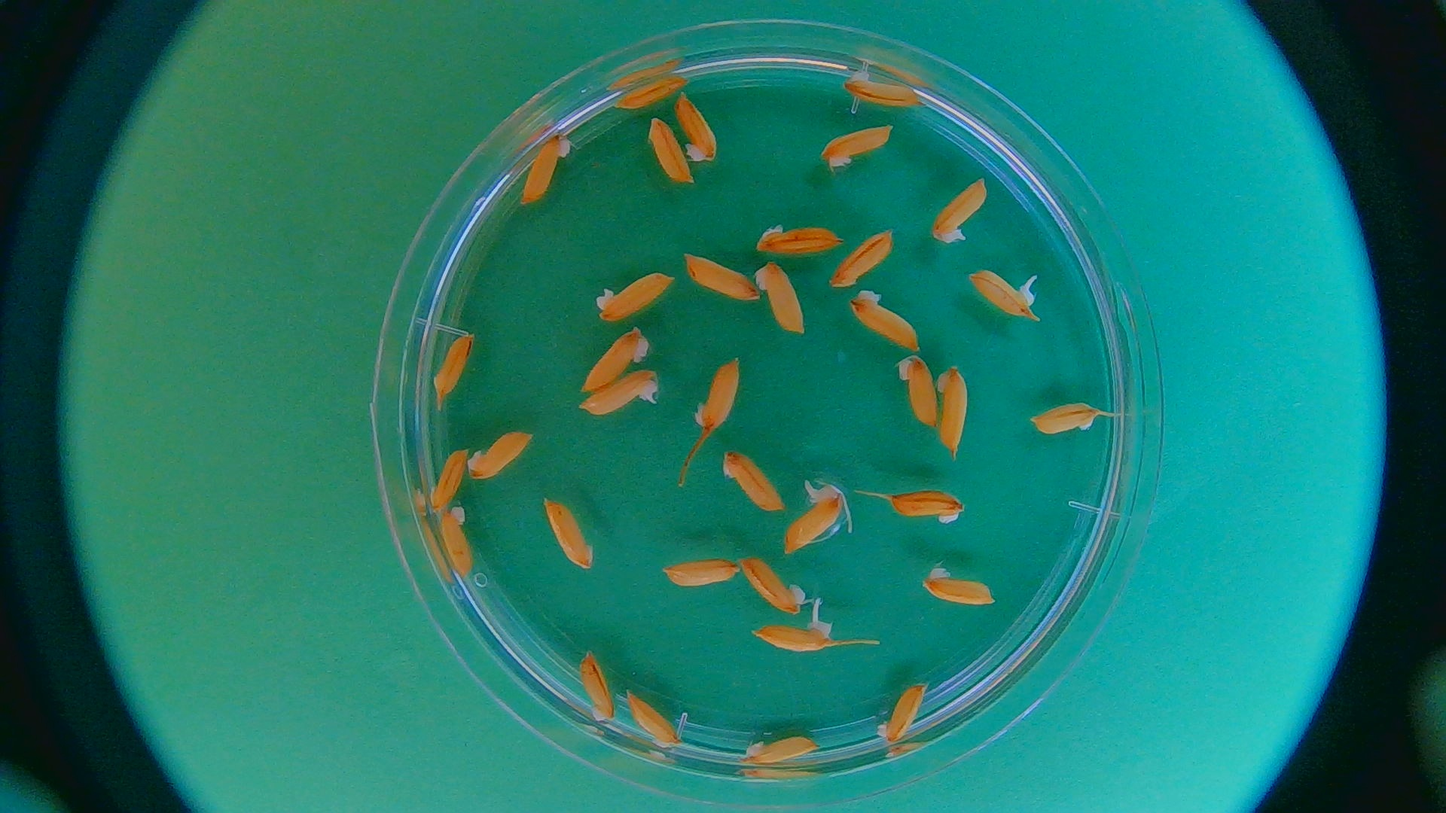no: (582, 326, 651, 394), (850, 291, 919, 352), (741, 555, 807, 618), (467, 428, 546, 480), (541, 500, 595, 574), (581, 370, 662, 419), (754, 261, 807, 334), (596, 273, 674, 321), (828, 231, 894, 287), (435, 510, 479, 591), (723, 451, 781, 512), (686, 256, 761, 301), (935, 178, 986, 244), (520, 136, 569, 202), (694, 361, 740, 431), (822, 123, 895, 167), (878, 679, 926, 744), (897, 353, 937, 428), (647, 117, 692, 183), (420, 438, 464, 505), (628, 690, 682, 744), (923, 567, 995, 607), (937, 366, 969, 452), (676, 93, 716, 160), (756, 224, 844, 254), (578, 651, 616, 720), (433, 334, 474, 397), (846, 72, 923, 105), (891, 490, 966, 523), (662, 557, 742, 587), (614, 78, 685, 110), (429, 452, 469, 508), (740, 736, 820, 764), (1029, 403, 1099, 434)
yes: (783, 481, 844, 553), (970, 263, 1039, 321), (754, 620, 834, 657)
